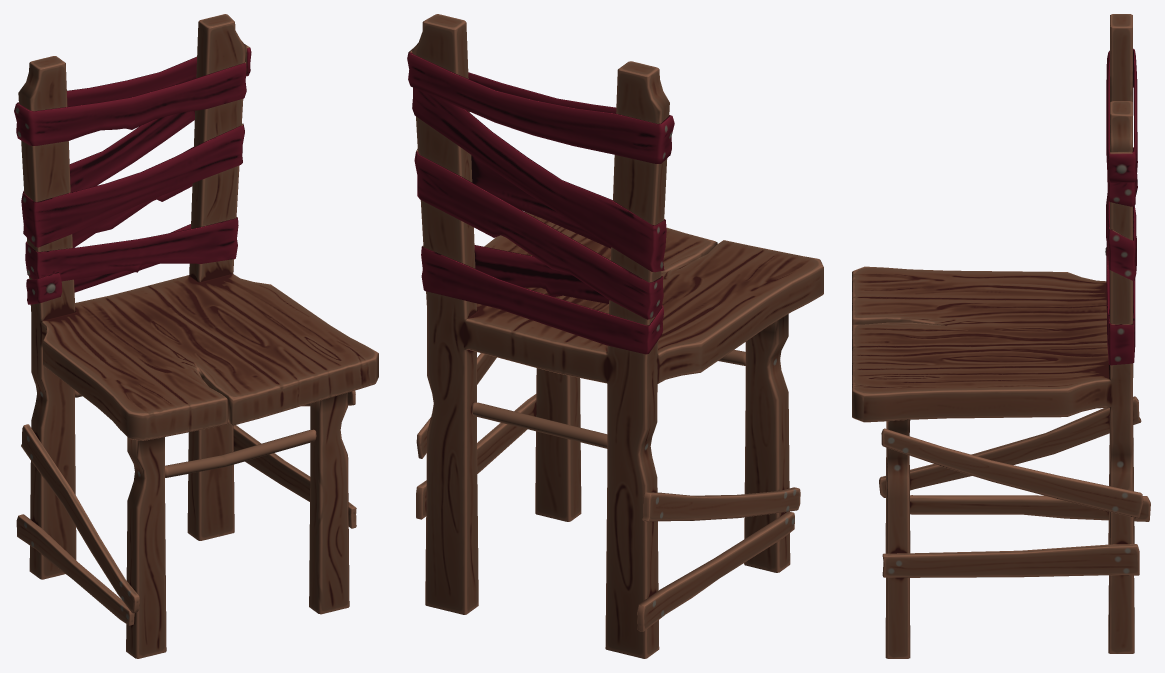
File: stylised_broken_chair.glb
3 renders of one model, left to right at view 1: azimuth 30°, elevation 25°; view 2: azimuth 150°, elevation 25°; view 3: azimuth 270°, elevation 25°, orthographic. The views are drawn at different scales.
Parts seen in each view (by area): view 1: Chair1, Cloth; view 2: Chair1, Cloth; view 3: Chair1, Cloth.
Boxes of the visible parts, x1=… form: Chair1: x1=16, y1=14, x2=378, y2=658; Cloth: x1=14, y1=44, x2=251, y2=304; Chair1: x1=412, y1=14, x2=823, y2=658; Cloth: x1=407, y1=47, x2=674, y2=354; Chair1: x1=852, y1=14, x2=1150, y2=658; Cloth: x1=1105, y1=48, x2=1137, y2=365.
Size of the model in its own units: 0.5196 by 1.01 by 0.5081.
1 material, 1 textured.
